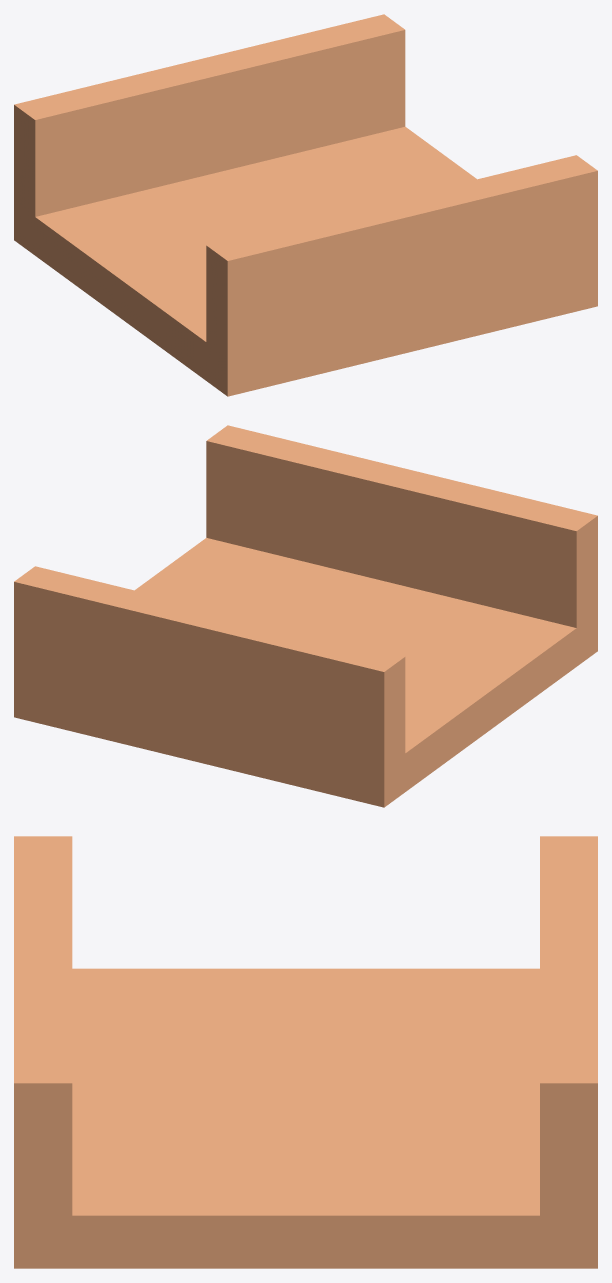
The model's file is BeigeRoof_2Edges_Small.glb.
3 renders of one model, top to bottom at view 1: azimuth 30°, elevation 25°; view 2: azimuth 150°, elevation 25°; view 3: azimuth 270°, elevation 25°, orthographic. The views are drawn at different scales.
Visible parts, largest first — view 1: roof_flat_2Edges_small_beige; view 2: roof_flat_2Edges_small_beige; view 3: roof_flat_2Edges_small_beige.
Boxes of the visible parts, x1,y1,x2,y2 form: roof_flat_2Edges_small_beige: (14,14,597,396); roof_flat_2Edges_small_beige: (14,425,597,807); roof_flat_2Edges_small_beige: (14,836,597,1268).
Size of what is drawn, in the model's own units: 2 by 0.7 by 2.
1 material, 1 textured.
